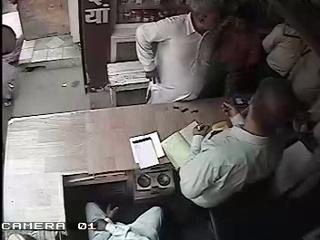Normal: (178, 77, 302, 210), (135, 0, 225, 105)
